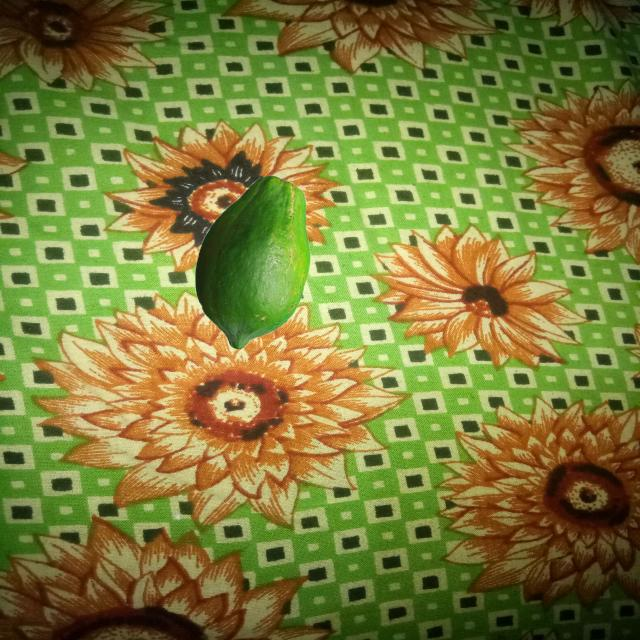Pepaya unrippen: (192, 170, 310, 350)
